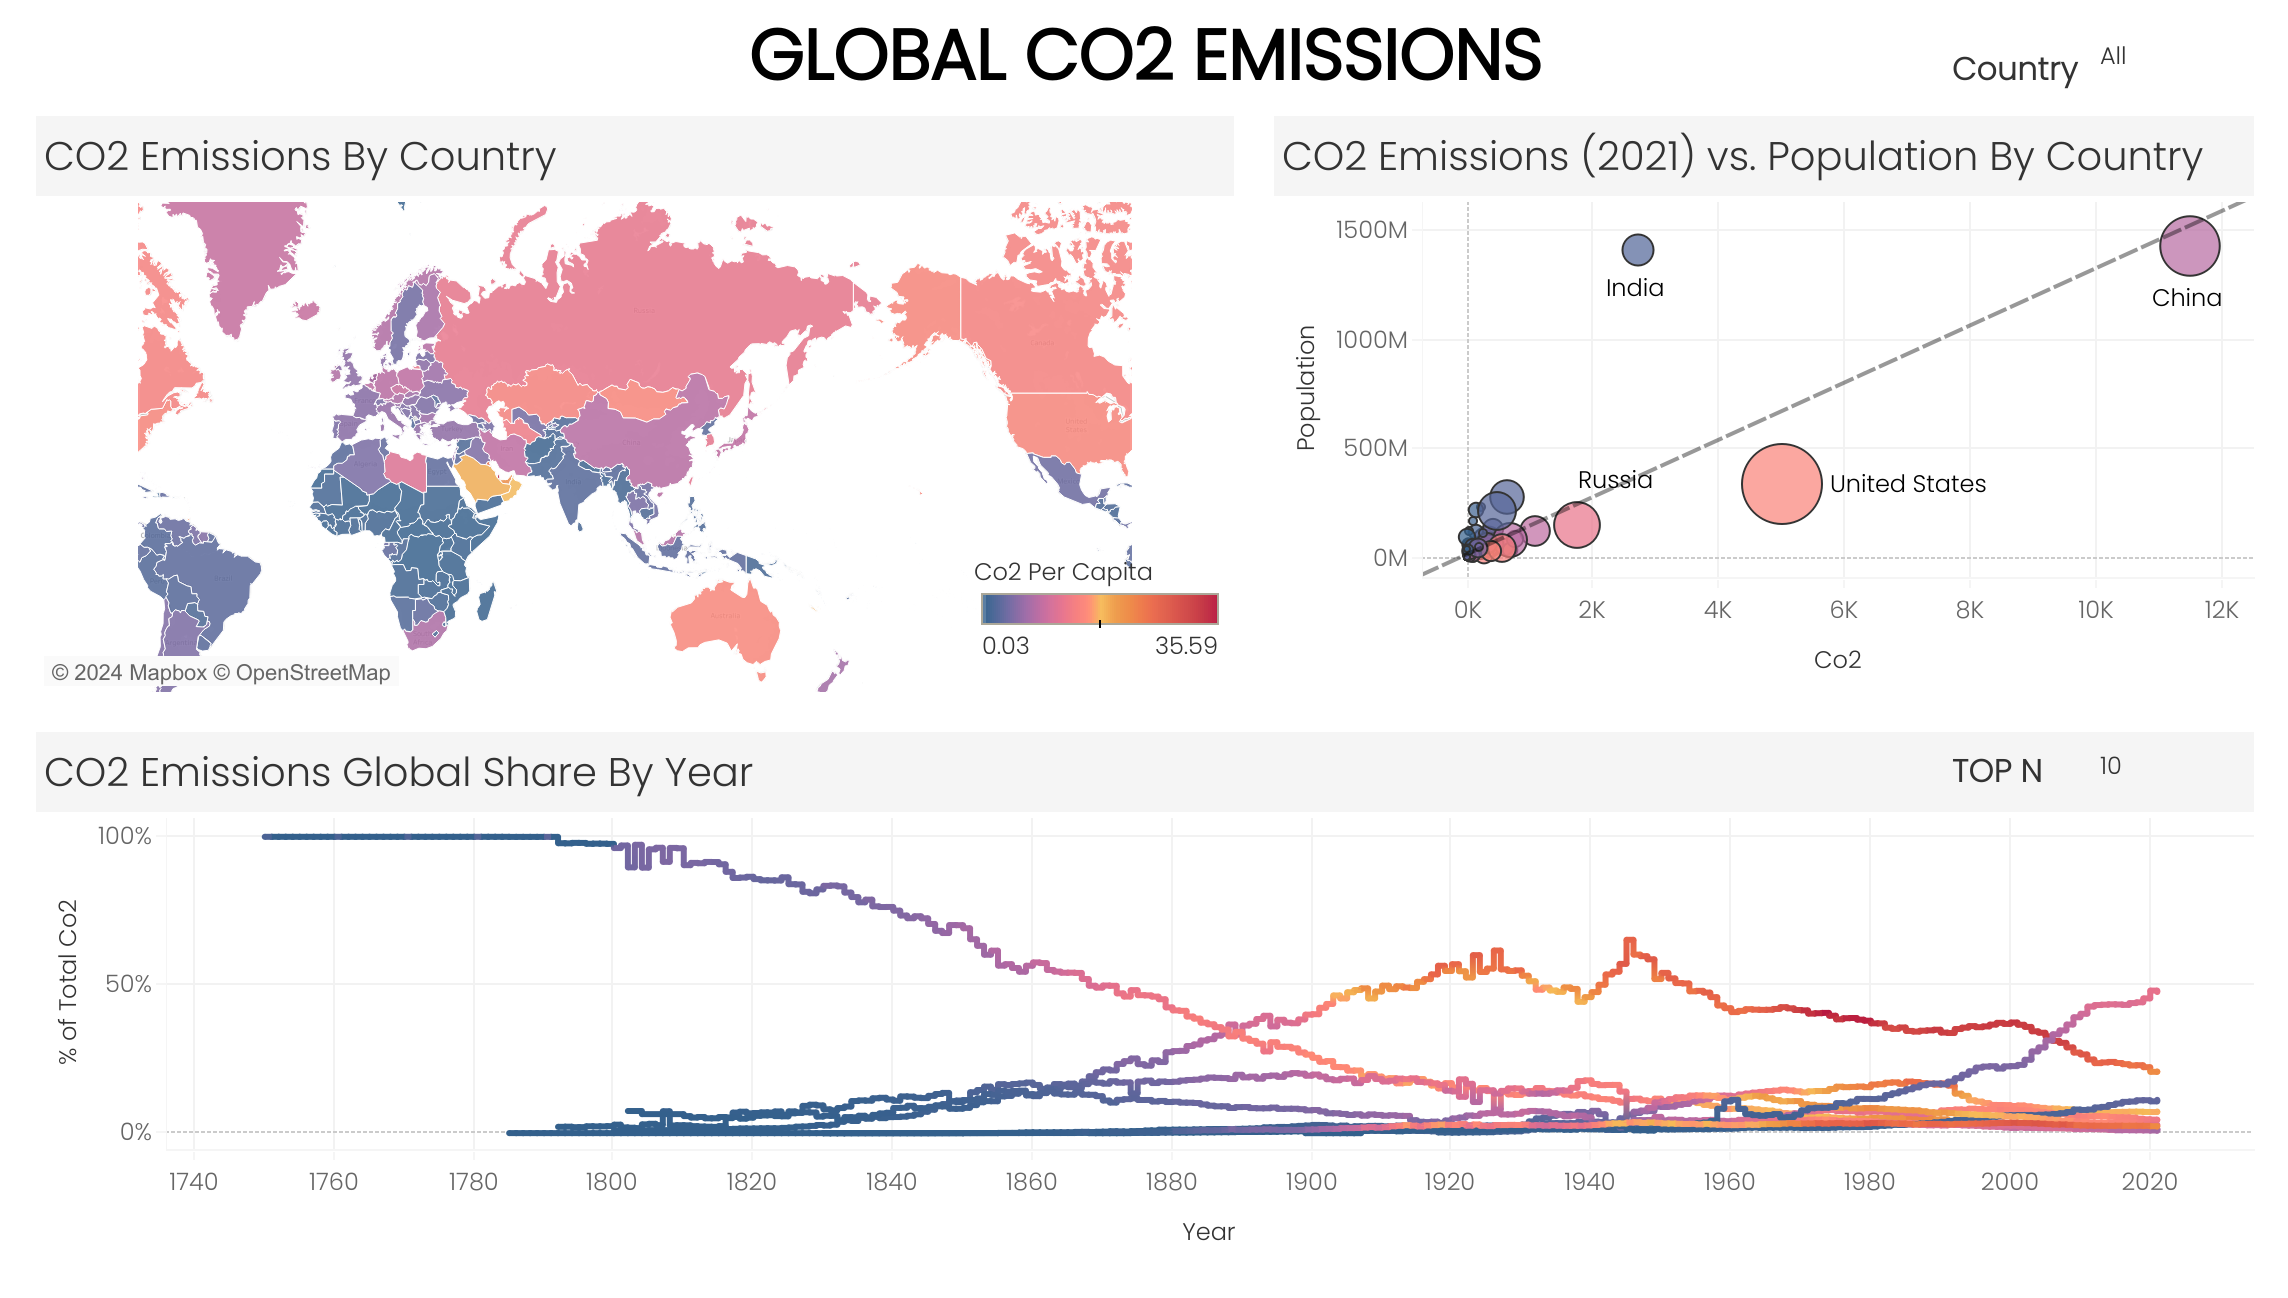

The dashboard page shown, as its layout file describes it:
{"tool":"tableau","page":{"name":"Global CO2 Emissions","canvas":[1145,650],"ordinal":0},"visuals":[{"type":"text","box":[8,8,1129,40]},{"type":"filter","title":"Map","param":"[federated.0dhfghj0yxf4201flyj1m00r75j2].[none:Country (copy)_318038579076153344","box":[976,19,148,31]},{"type":"worksheet","title":"Map","mark":"Automatic","box":[8,48,619,308]},{"type":"worksheet","title":"Scatter Plot","mark":"Circle","rows":["population"],"cols":["co2"],"box":[627,48,510,308]},{"type":"legend","title":"Map","param":"[federated.0dhfghj0yxf4201flyj1m00r75j2].[sum:co2_per_capita:qk]","box":[487,273,127,54]},{"type":"worksheet","title":"Line Chart","mark":"Automatic","cols":["year"],"box":[8,356,1129,286]},{"type":"parameter","param":"[Parameters].[Parameter 1]","box":[976,374,141,23]}]}

Visuals, with their boxes in screenshot pixels (x1, y1, x2, y2), scaled from the page's 1145x650 canvas onto the 2288x1298 screenshot:
text: [x1=16, y1=16, x2=2272, y2=96]
"Map" filter: [x1=1950, y1=38, x2=2246, y2=100]
"Map" worksheet: [x1=16, y1=96, x2=1253, y2=711]
"Scatter Plot" worksheet (Circle marks): [x1=1253, y1=96, x2=2272, y2=711]
"Map" legend: [x1=973, y1=545, x2=1227, y2=653]
"Line Chart" worksheet: [x1=16, y1=711, x2=2272, y2=1282]
parameter: [x1=1950, y1=747, x2=2232, y2=793]
